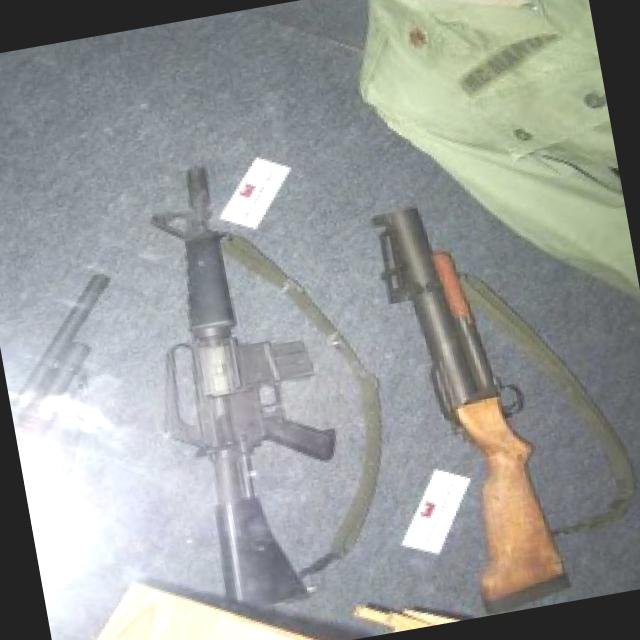long weapon: (113, 131, 400, 634), (357, 176, 567, 604)
